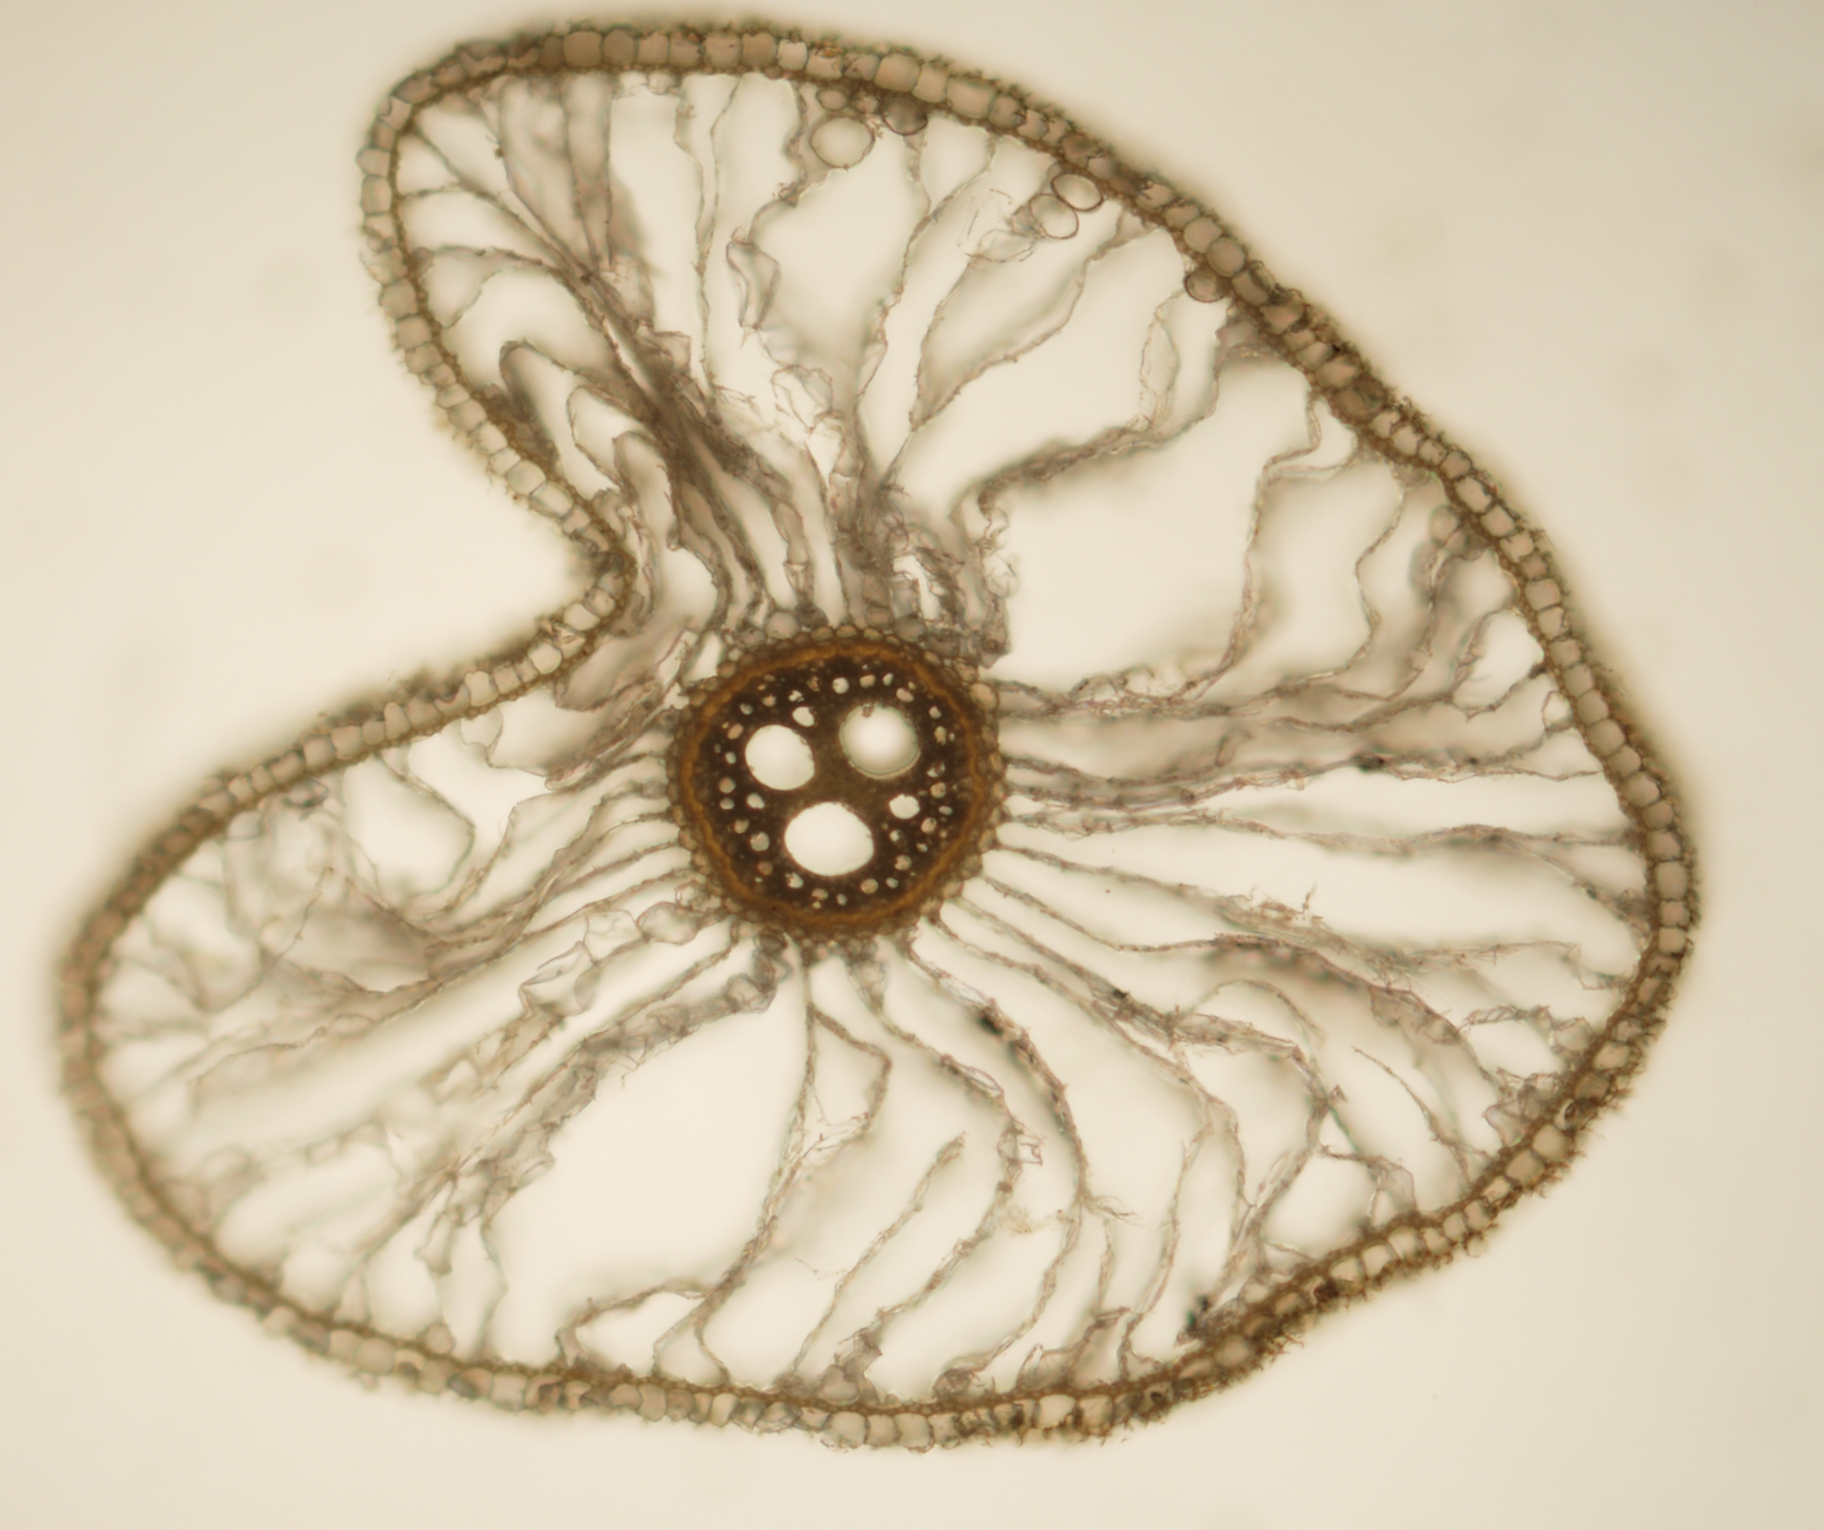lm: (785, 801, 874, 876), (839, 703, 921, 779), (745, 726, 816, 789)
